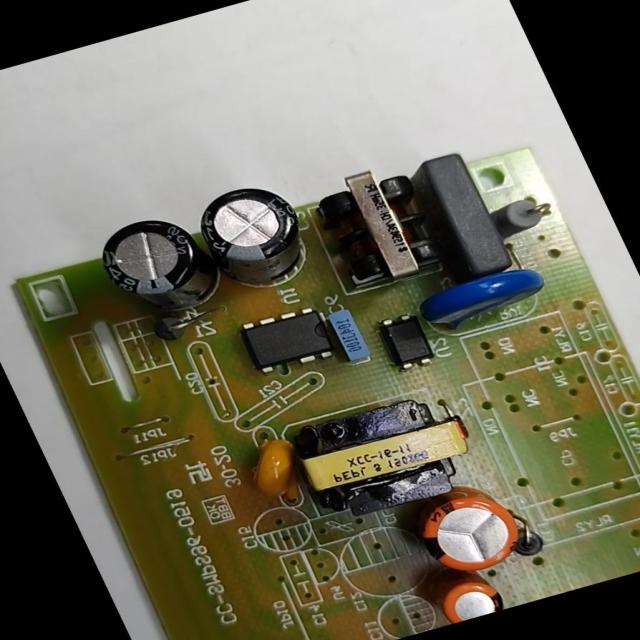Cap1: (394, 472, 540, 588)
Cap2: (415, 556, 513, 627)
Cap3: (174, 172, 336, 308)
Cap4: (70, 199, 243, 335)
MOSFET: (228, 297, 352, 378)
Mov: (402, 254, 560, 346)
Resistor: (474, 189, 564, 244)
Transformer: (272, 380, 498, 534), (296, 156, 449, 293)
